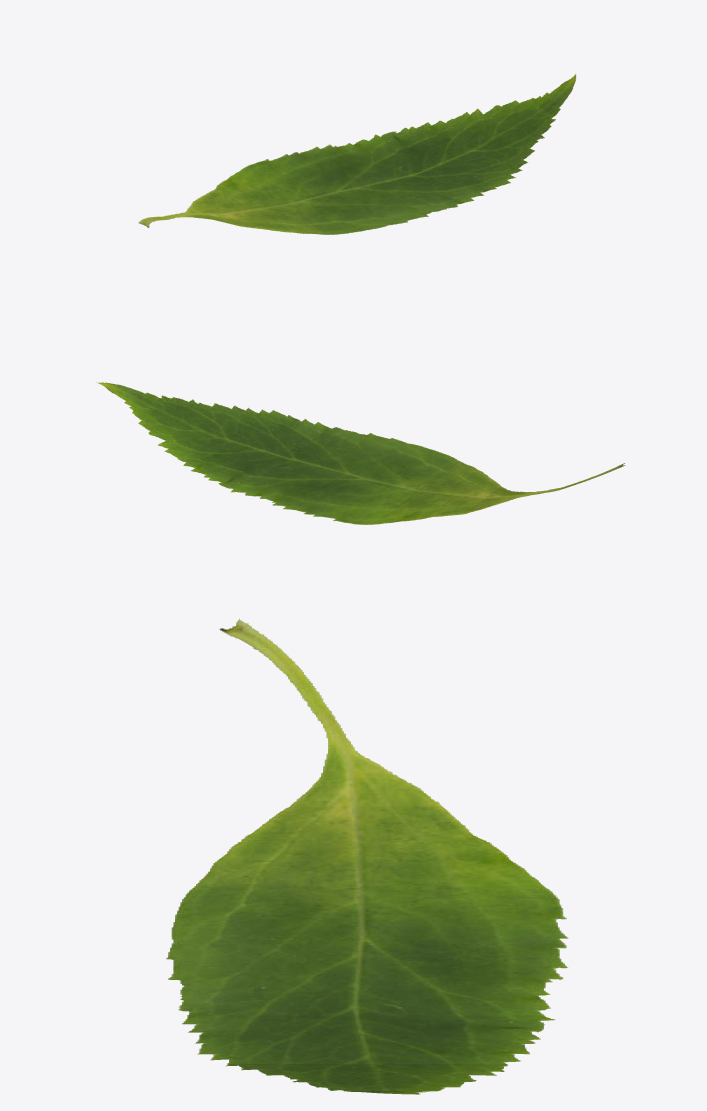
File: leave.glb
3 renders of one model, top to bottom at view 1: azimuth 30°, elevation 25°; view 2: azimuth 150°, elevation 25°; view 3: azimuth 270°, elevation 25°, orthographic. The views are drawn at different scales.
Visible parts, largest first — view 1: Plane; view 2: Plane; view 3: Plane.
Boxes of the visible parts, left/top/right/bottom form: Plane: left=138, top=74, right=576, bottom=234; Plane: left=96, top=382, right=625, bottom=524; Plane: left=166, top=618, right=568, bottom=1094.
Size of the model in its own units: 4 by 0.406 by 2.
Materials: 1 (1 with a texture image).
